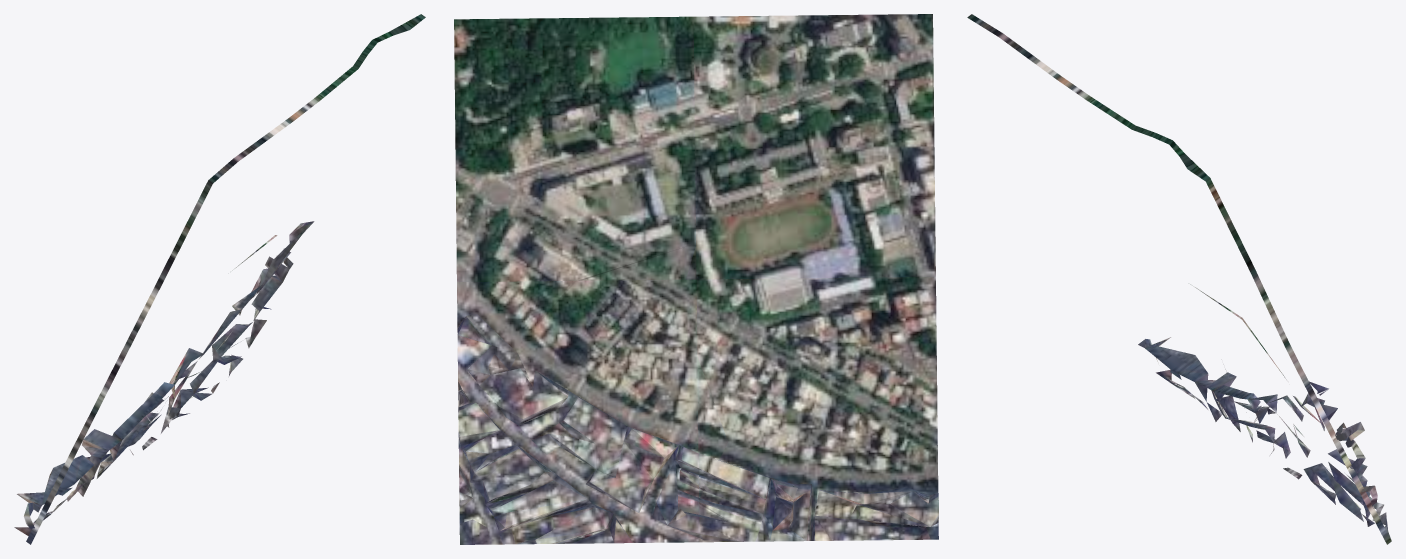
3 views of the same model, side by side, from view 1: azimuth 30°, elevation 25°; view 2: azimuth 150°, elevation 25°; view 3: azimuth 270°, elevation 25° (orthographic). The views are drawn at different scales.
Size of the model in its own units: 614 by 561 by 517.
Materials: 1 (1 with a texture image).
